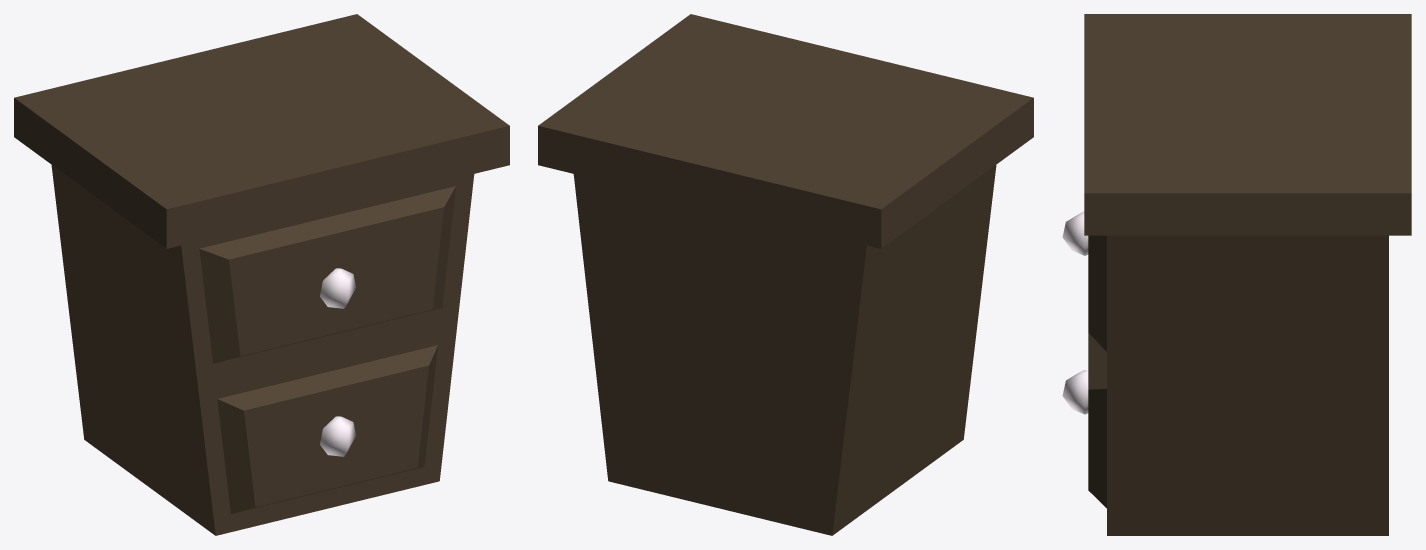
Rendered from drawer1.fbx.
3 views of the same model, side by side, from view 1: azimuth 30°, elevation 25°; view 2: azimuth 150°, elevation 25°; view 3: azimuth 270°, elevation 25° (orthographic). The views are drawn at different scales.
Parts seen in each view (by area): view 1: Sphere.001; view 2: Sphere.001; view 3: Sphere.001.
Boxes of the visible parts, x1=… form: Sphere.001: x1=14, y1=14, x2=509, y2=535; Sphere.001: x1=538, y1=14, x2=1033, y2=535; Sphere.001: x1=1062, y1=14, x2=1411, y2=535.
Size of the model in its own units: 232 by 226 by 191.
